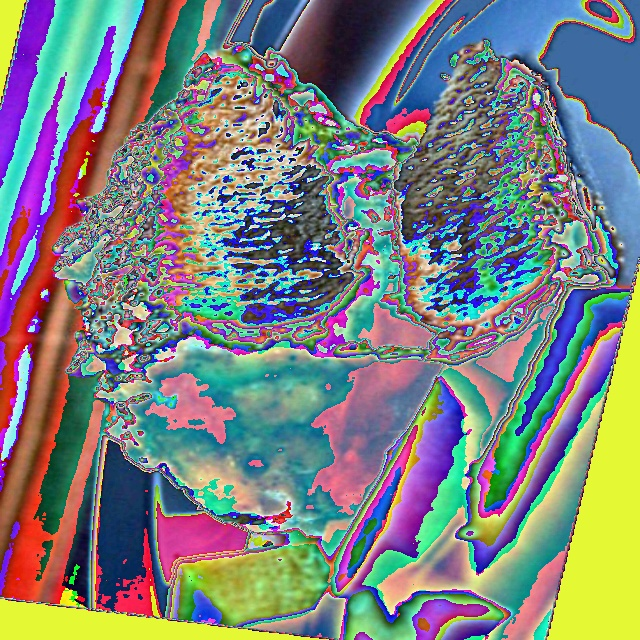background: (50, 39, 631, 639)
